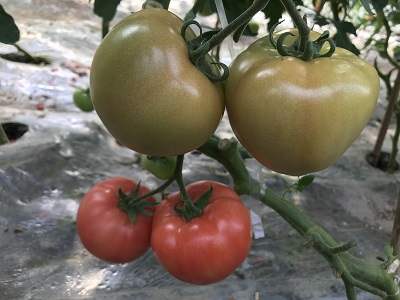mature-tomato: (153, 180, 254, 284), (78, 177, 150, 261)
semi-mature-tomato: (222, 28, 380, 176), (90, 8, 220, 152)
